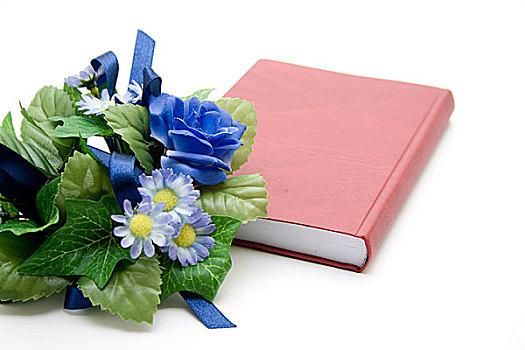book: (172, 37, 465, 286)
